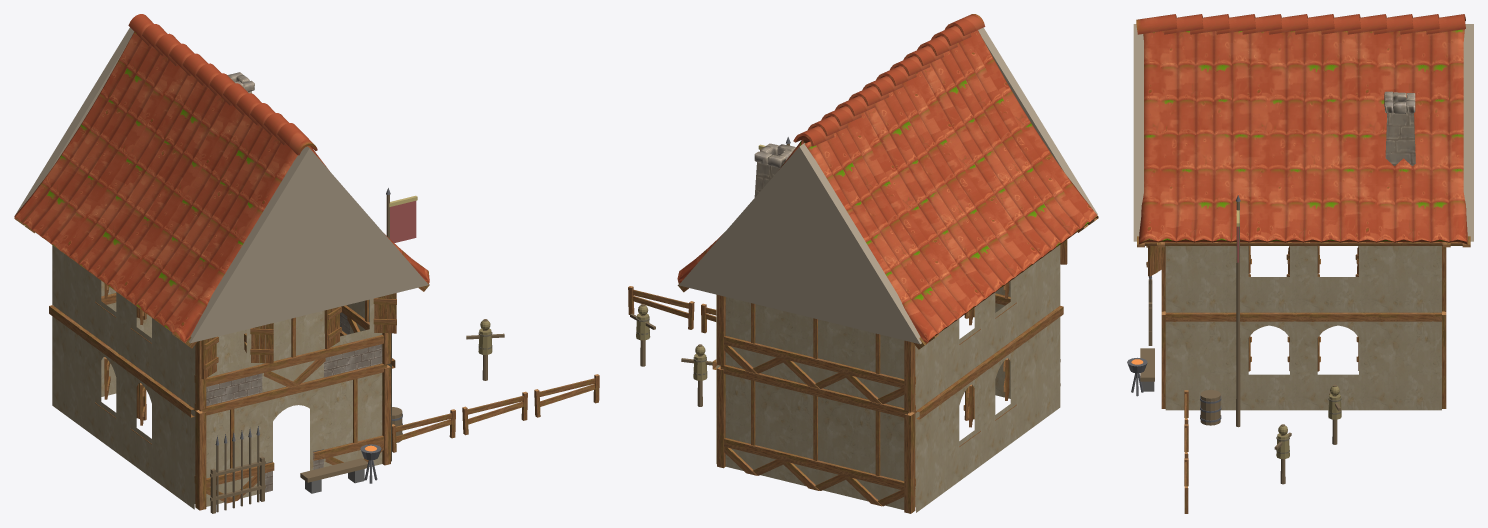
The model's file is town_barracks_t2.glb.
3 views of the same model, side by side, from view 1: azimuth 30°, elevation 25°; view 2: azimuth 150°, elevation 25°; view 3: azimuth 270°, elevation 25° (orthographic). The views are drawn at different scales.
Parts seen in each view (by area): view 1: Roof_RoundTiles_6x8_inst, gable, Wall_Plaster_Straight_inst.003, Wall_Plaster_Straight_inst, Wall_Plaster_Straight_inst.010, Wall_Plaster_Straight_inst.005, Wall_Plaster_Straight_inst.007, Wall_Plaster_Door_Round_inst, Wall_Plaster_Window_Wide_Round_inst.002, Wall_Plaster_Window_Wide_Round_inst, Wall_Plaster_Window_Wide_Round_inst.005, Wall_Plaster_Straight_inst.013 (+16 smaller); view 2: Roof_RoundTiles_6x8_inst, gable.001, Wall_Plaster_Straight_inst.002, Wall_Plaster_Straight_inst.004, Wall_Plaster_Straight_inst.001, Wall_Plaster_Straight_inst.011, Wall_Plaster_Straight_inst.012, Wall_Plaster_Straight_inst.009, Wall_Plaster_Straight_inst.007, Wall_Plaster_Straight_inst.005, Wall_Plaster_Window_Wide_Round_inst, Wall_Plaster_Window_Wide_Round_inst.002 (+12 smaller); view 3: Roof_RoundTiles_6x8_inst, Wall_Plaster_Straight_inst.008, Wall_Plaster_Straight_inst.006, Wall_Plaster_Window_Wide_Round_inst.001, Wall_Plaster_Window_Wide_Round_inst.003, Wall_Plaster_Straight_inst.014, Wall_Plaster_Straight_inst.016, Wall_Plaster_Window_Wide_Round_inst.009, Wall_Plaster_Window_Wide_Round_inst.007, gable.001, gable, Prop_Chimney_inst (+6 smaller).
Boxes of the visible parts, x1,y1,x2,y2 form: Roof_RoundTiles_6x8_inst: [14, 14, 429, 348]; gable: [189, 146, 428, 343]; Wall_Plaster_Straight_inst.003: [319, 363, 387, 467]; Wall_Plaster_Straight_inst: [200, 393, 263, 506]; Wall_Plaster_Straight_inst.010: [262, 310, 325, 392]; Wall_Plaster_Straight_inst.005: [155, 383, 200, 509]; Wall_Plaster_Straight_inst.007: [49, 305, 87, 431]; Wall_Plaster_Door_Round_inst: [257, 378, 325, 492]; Wall_Plaster_Window_Wide_Round_inst.002: [84, 331, 123, 457]; Wall_Plaster_Window_Wide_Round_inst: [120, 357, 158, 483]; Wall_Plaster_Window_Wide_Round_inst.005: [324, 298, 383, 377]; Wall_Plaster_Straight_inst.013: [159, 323, 195, 408]; Roof_RoundTiles_6x8_inst: [677, 14, 1098, 349]; gable.001: [679, 143, 921, 344]; Wall_Plaster_Straight_inst.002: [783, 379, 851, 496]; Wall_Plaster_Straight_inst.004: [720, 365, 790, 480]; Wall_Plaster_Straight_inst.001: [845, 394, 909, 509]; Wall_Plaster_Straight_inst.011: [783, 311, 847, 393]; Wall_Plaster_Straight_inst.012: [724, 297, 784, 378]; Wall_Plaster_Straight_inst.009: [845, 326, 904, 407]; Wall_Plaster_Straight_inst.007: [910, 385, 955, 512]; Wall_Plaster_Straight_inst.005: [1018, 305, 1063, 433]; Wall_Plaster_Window_Wide_Round_inst: [982, 332, 1027, 459]; Wall_Plaster_Window_Wide_Round_inst.002: [947, 358, 991, 486]; Roof_RoundTiles_6x8_inst: [1136, 14, 1470, 247]; Wall_Plaster_Straight_inst.008: [1373, 312, 1441, 410]; Wall_Plaster_Straight_inst.006: [1165, 312, 1234, 410]; Wall_Plaster_Window_Wide_Round_inst.001: [1234, 312, 1303, 410]; Wall_Plaster_Window_Wide_Round_inst.003: [1304, 312, 1372, 410]; Wall_Plaster_Straight_inst.014: [1165, 246, 1234, 312]; Wall_Plaster_Straight_inst.016: [1373, 246, 1441, 312]; Wall_Plaster_Window_Wide_Round_inst.009: [1304, 246, 1372, 312]; Wall_Plaster_Window_Wide_Round_inst.007: [1234, 246, 1303, 312]; gable.001: [1463, 24, 1473, 241]; gable: [1133, 24, 1143, 241]; Prop_Chimney_inst: [1384, 91, 1415, 165].
Bounding box in the file's own units: 14.39 × 11.16 × 10.05.
35 materials, 15 textured.
